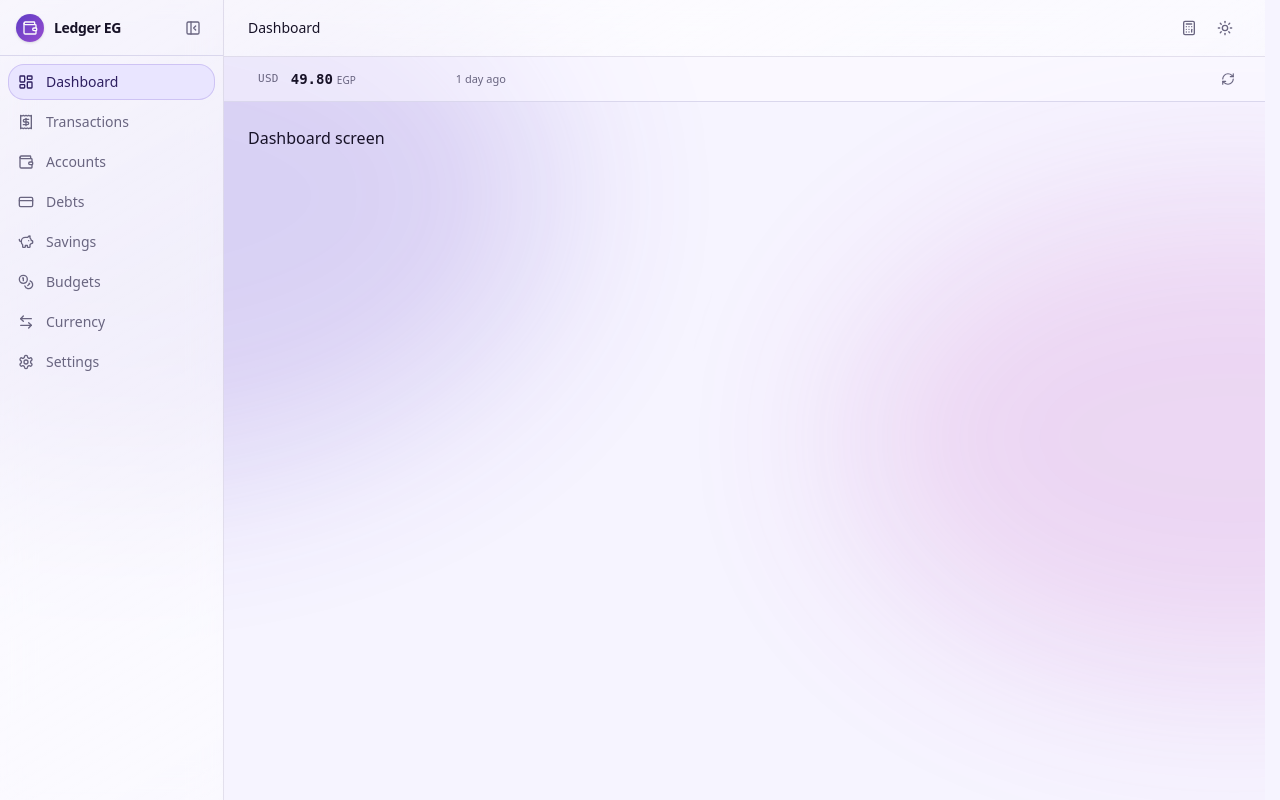
the sidebar › collapses, and says so
Click the button named "Collapse sidebar".
click(193, 28)  # box [179,14,207,42]
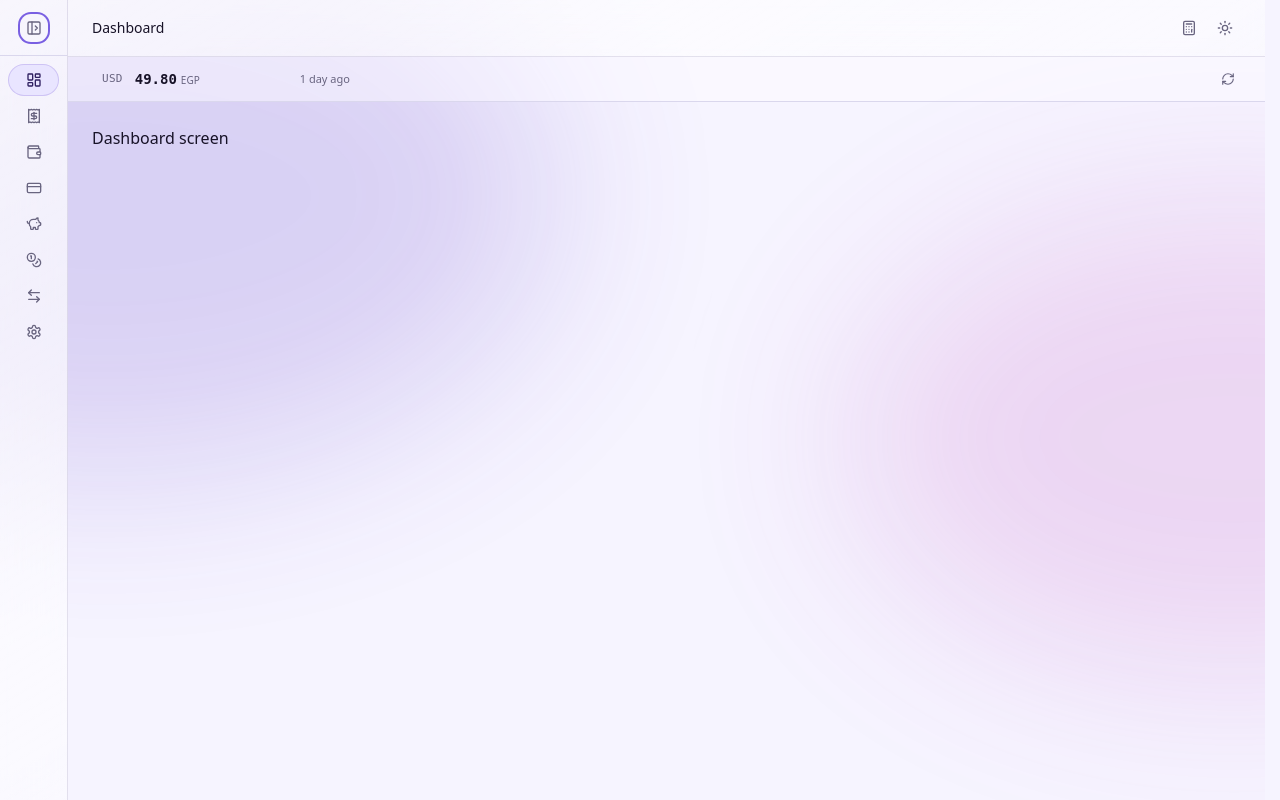
Check: the button named "Expand sidebar" is collapsed, box [20,14,48,42]
